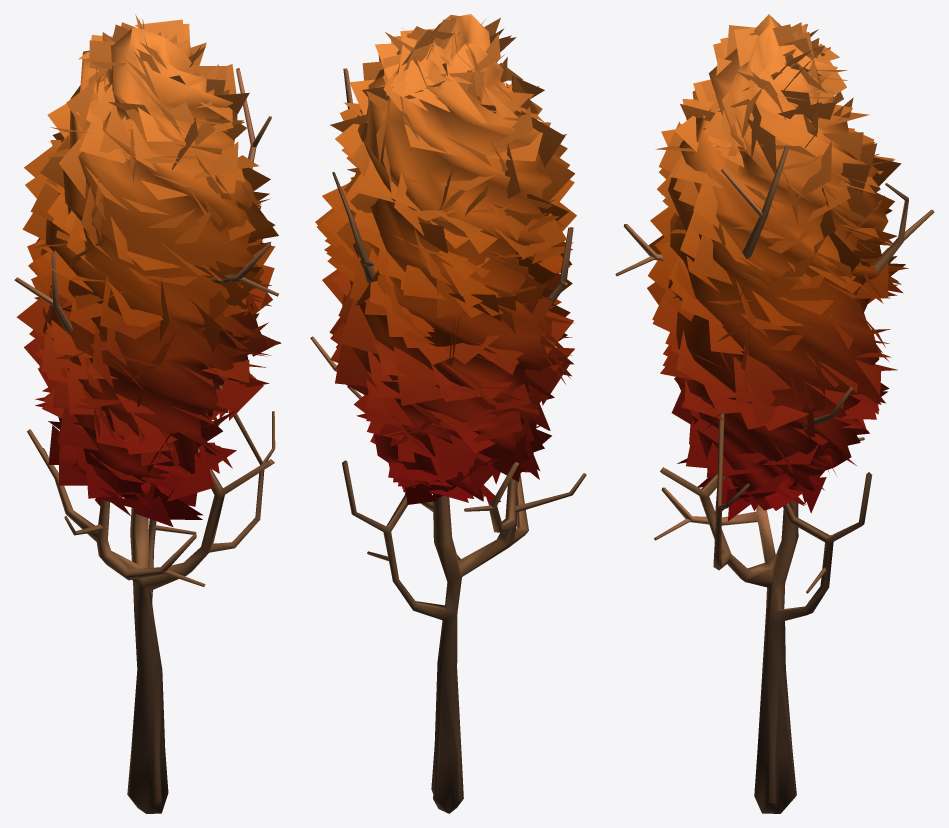
The model's file is Forest_Tree_5A.fbx.
The picture shows the model from 3 angles, left to right: view 1: azimuth 30°, elevation 25°; view 2: azimuth 150°, elevation 25°; view 3: azimuth 270°, elevation 25°; orthographic projection.
Parts seen in each view (by area): view 1: Forest_Tree_5A; view 2: Forest_Tree_5A; view 3: Forest_Tree_5A.
Part boxes in pixels (x1=…): Forest_Tree_5A: x1=14, y1=14, x2=281, y2=813; Forest_Tree_5A: x1=310, y1=14, x2=586, y2=813; Forest_Tree_5A: x1=615, y1=14, x2=934, y2=813.
Size of the model in its own units: 233 by 733 by 269.
